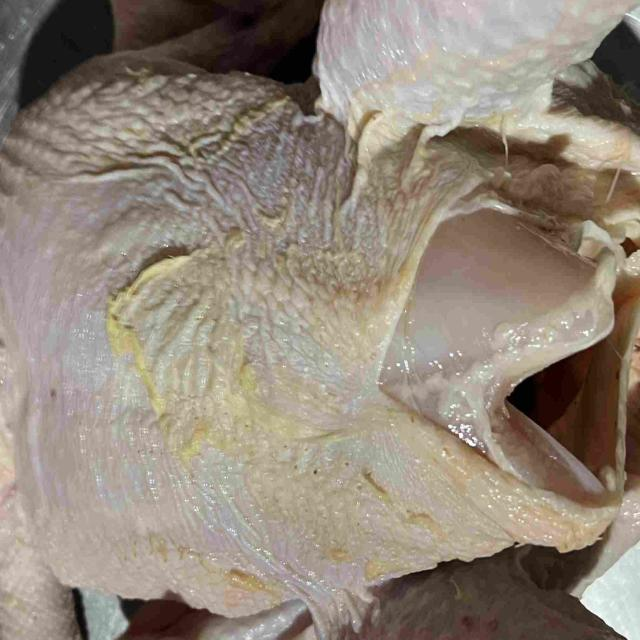breast: (0, 48, 618, 609)
leg: (309, 0, 640, 108)
neck: (0, 345, 76, 640)
